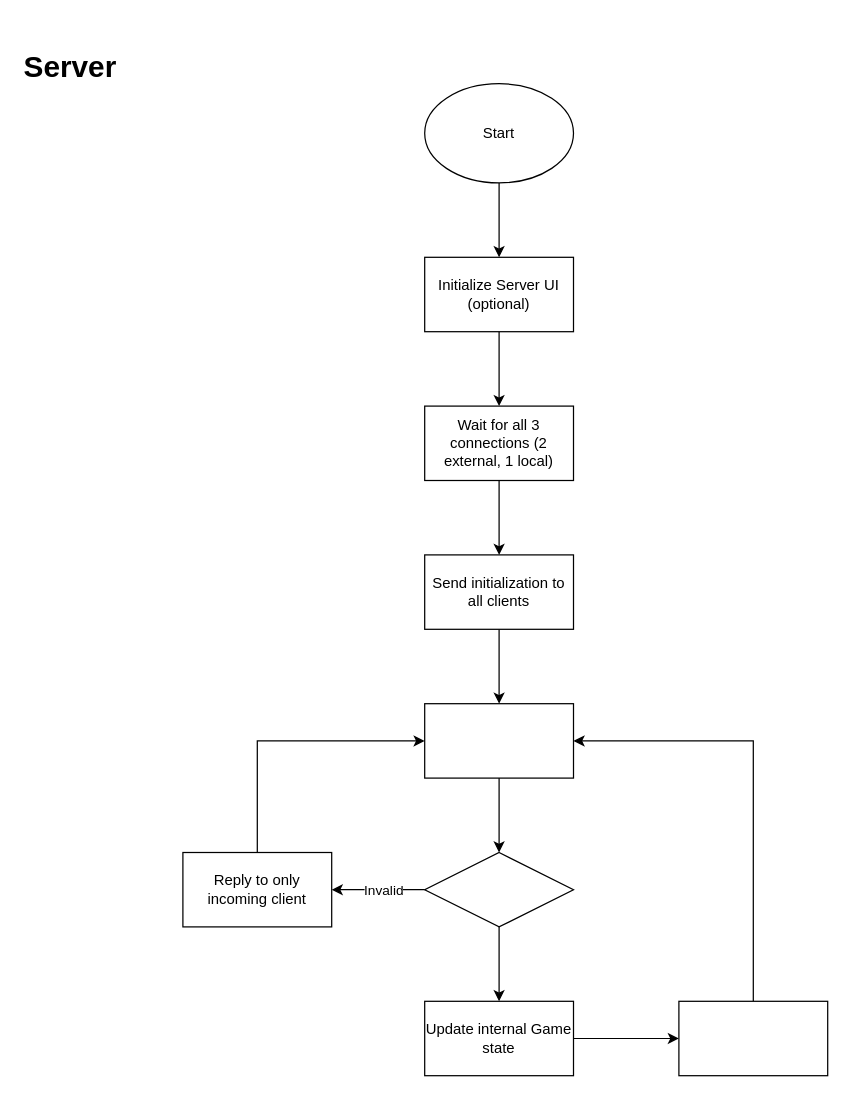
Image size: 849x1097. Some labels were removed from this diagram. Here are the shapes that lost their labels. From the top down, the centre of each, then its label:
the point at 498,740: Wait for Client Events
the point at 498,889: Verify Validity
the point at 753,1038: Send Update to all clients
